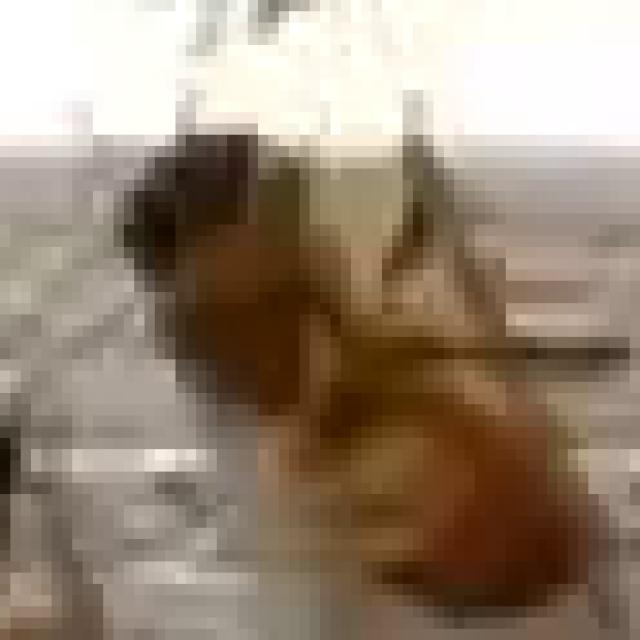honeybee: (89, 107, 582, 567)
